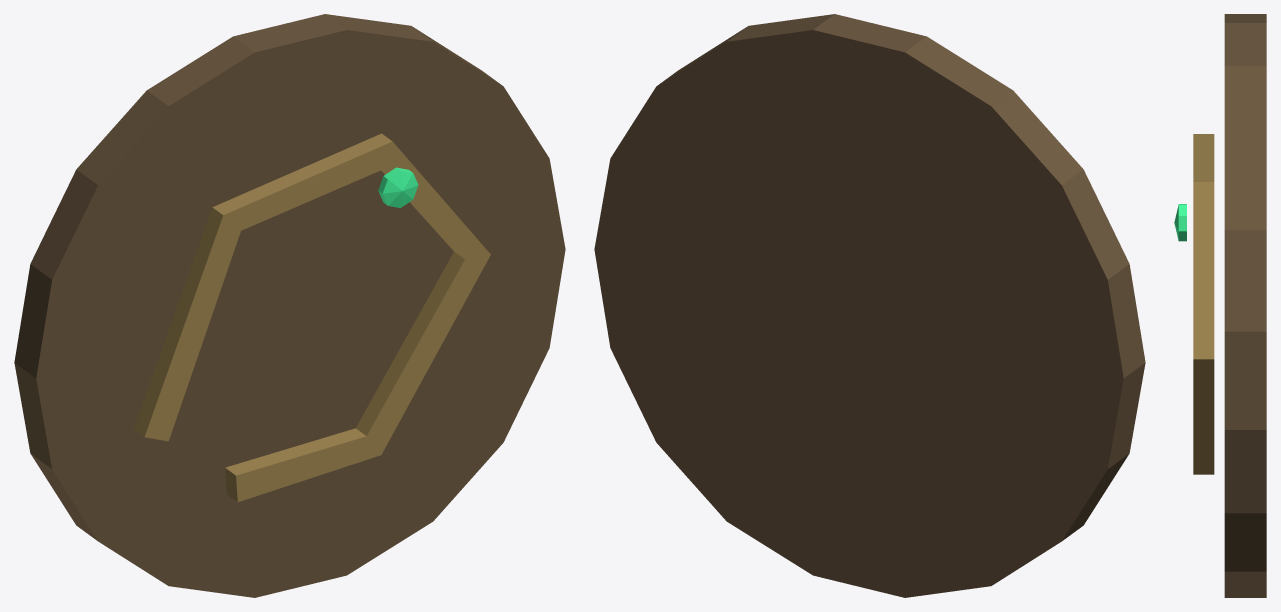
Rendered from coiling_dragon.obj.
The picture shows the model from 3 angles, left to right: view 1: azimuth 30°, elevation 25°; view 2: azimuth 150°, elevation 25°; view 3: azimuth 270°, elevation 25°; orthographic projection. The views are drawn at different scales.
Parts seen in each view (by area): view 1: mirror_back_plate, coiling_dragon, mirror_back_plate_edge, coiling_dragon_edge, dragon_eye; view 2: mirror_back_plate, mirror_back_plate_edge; view 3: mirror_back_plate_edge, coiling_dragon_edge, dragon_eye.
Part boxes in pixels (left/top/right/bottom): mirror_back_plate: left=36, top=30, right=565, bottom=597; coiling_dragon: left=144, top=141, right=490, bottom=501; mirror_back_plate_edge: left=14, top=14, right=500, bottom=540; coiling_dragon_edge: left=134, top=133, right=464, bottom=501; dragon_eye: left=378, top=167, right=418, bottom=208; mirror_back_plate: left=594, top=30, right=1123, bottom=597; mirror_back_plate_edge: left=659, top=14, right=1145, bottom=540; mirror_back_plate_edge: left=1224, top=14, right=1266, bottom=597; coiling_dragon_edge: left=1193, top=134, right=1214, bottom=474; dragon_eye: left=1174, top=204, right=1186, bottom=241.
Bounding box in the file's own units: 1.12 × 1.1 × 0.1763.
